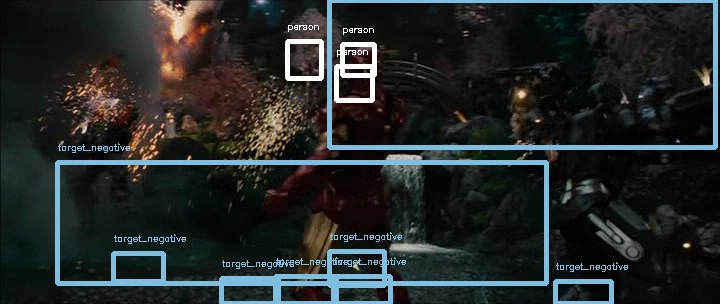person: (338, 42, 384, 95), (337, 42, 383, 95), (339, 42, 385, 95), (338, 41, 384, 94), (338, 43, 384, 96)
target_negative: (435, 59, 712, 164), (420, 39, 714, 117), (321, 210, 488, 285), (523, 123, 567, 185), (267, 187, 703, 192), (277, 279, 397, 291)
